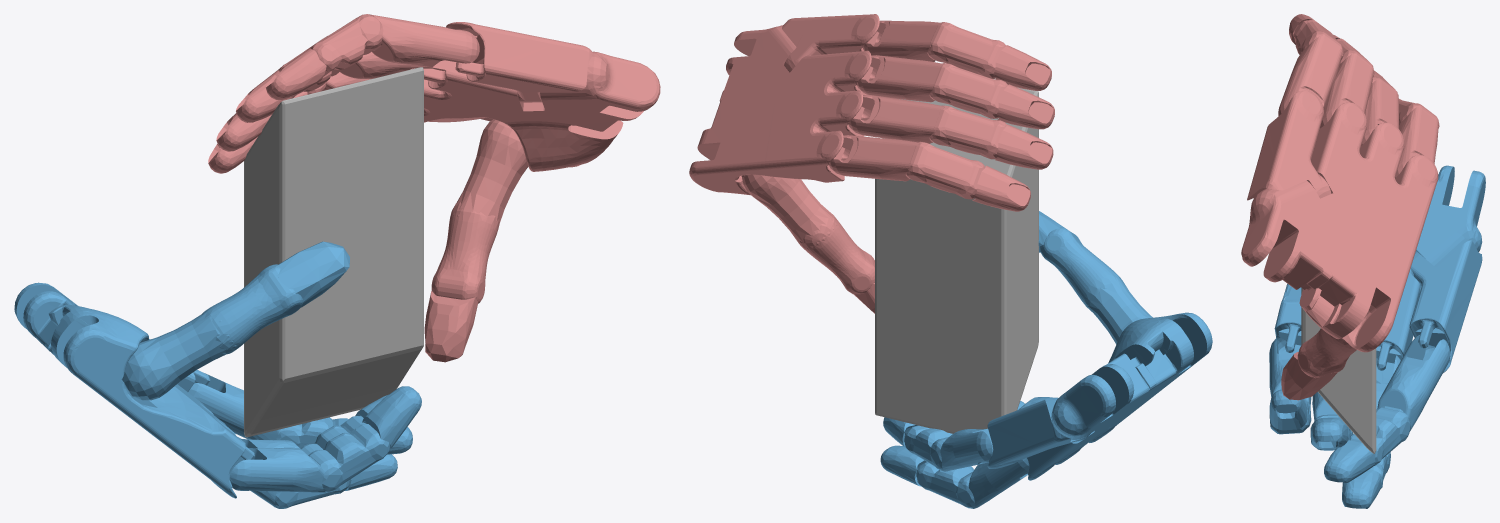
The model's file is Eraser_mesh.glb.
3 renders of one model, left to right at view 1: azimuth 30°, elevation 25°; view 2: azimuth 150°, elevation 25°; view 3: azimuth 270°, elevation 25°, orthographic. The views are drawn at different scales.
Visible parts, largest first — view 1: geom_0, geom_2, geom_1; view 2: geom_2, geom_0, geom_1; view 3: geom_2, geom_1, geom_0.
Part boxes in pixels (x1,y1,x2,y2): geom_0: [244, 67, 423, 437]; geom_2: [208, 14, 660, 362]; geom_1: [14, 241, 421, 508]; geom_2: [689, 14, 1054, 313]; geom_0: [875, 79, 1038, 433]; geom_1: [880, 211, 1212, 508]; geom_2: [1241, 14, 1439, 400]; geom_1: [1269, 165, 1485, 508]; geom_0: [1301, 288, 1376, 453].
Bounding box in the file's own units: 0.2847 × 0.2416 × 0.1142.
